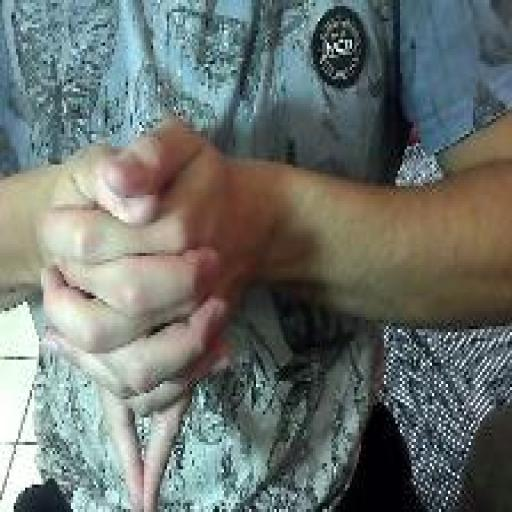Tatsu -dragon-: (34, 109, 235, 512)
